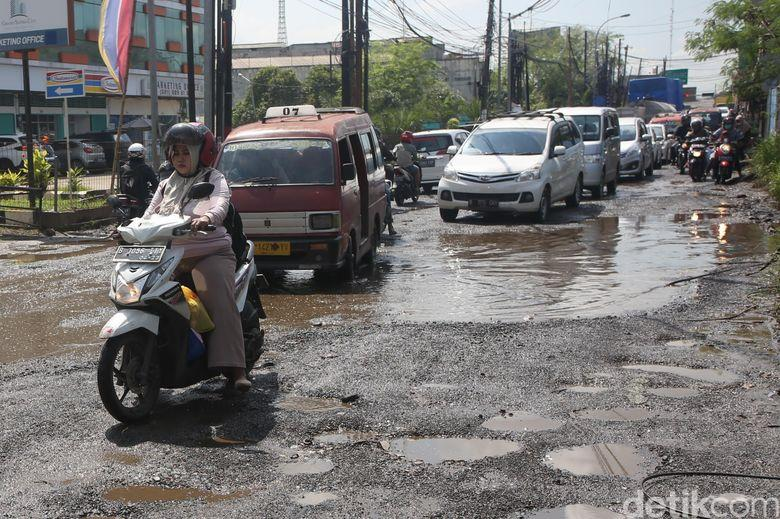Pothole: (340, 203, 780, 322), (535, 315, 779, 436), (75, 426, 293, 519), (315, 415, 535, 481), (538, 442, 679, 494), (470, 385, 592, 437)
